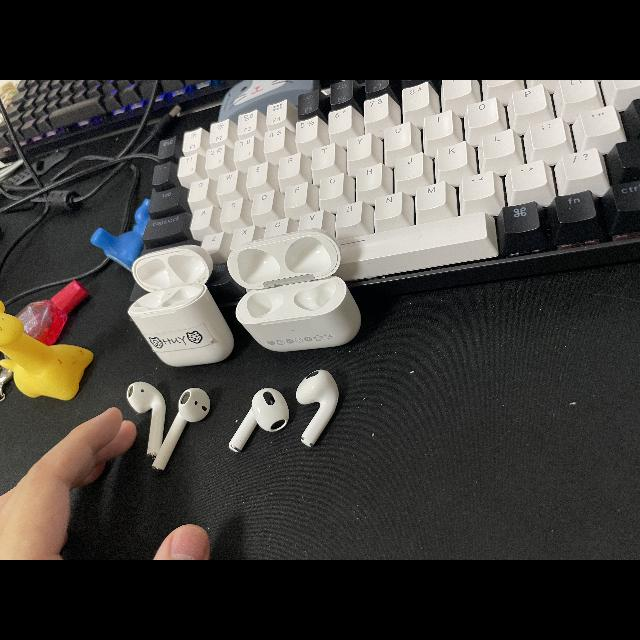airpod2: (115, 232, 237, 476)
airpod3: (226, 222, 364, 466)
